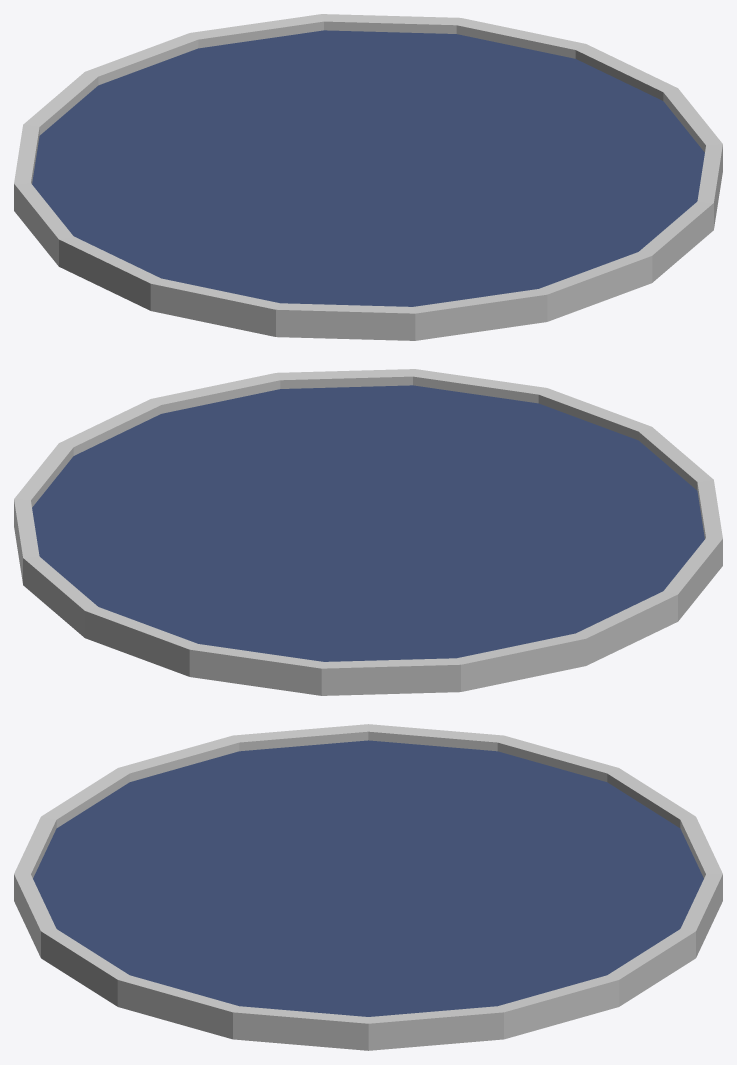
File: Shield_1_a_bl.fbx
3 renders of one model, top to bottom at view 1: azimuth 30°, elevation 25°; view 2: azimuth 150°, elevation 25°; view 3: azimuth 270°, elevation 25°, orthographic.
Parts seen in each view (by area): view 1: Circle.278, Circle.276; view 2: Circle.278, Circle.276; view 3: Circle.278, Circle.276.
Part boxes in pixels (bbox=[...]): Circle.278: bbox=[32, 30, 704, 306]; Circle.276: bbox=[14, 14, 722, 340]; Circle.278: bbox=[32, 385, 704, 661]; Circle.276: bbox=[14, 369, 722, 695]; Circle.278: bbox=[33, 740, 703, 1016]; Circle.276: bbox=[14, 724, 722, 1050].
Bounding box in the file's own units: 73.5 × 14.17 × 73.5.
